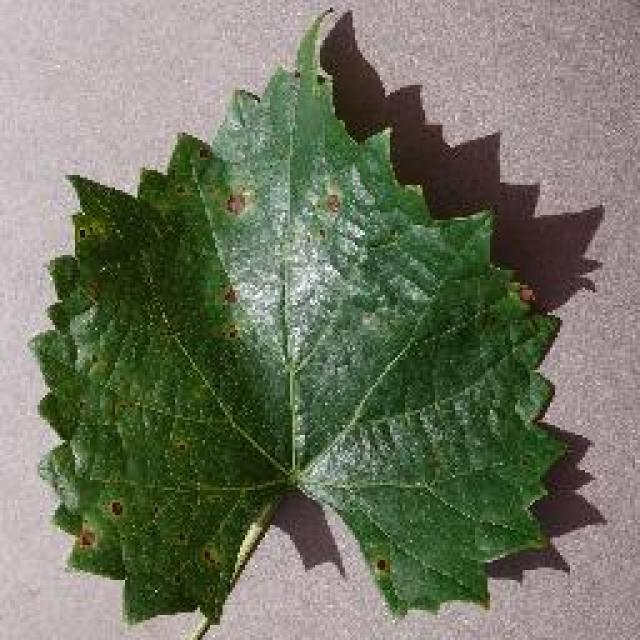Grape___Black_rot: (21, 6, 573, 638)
